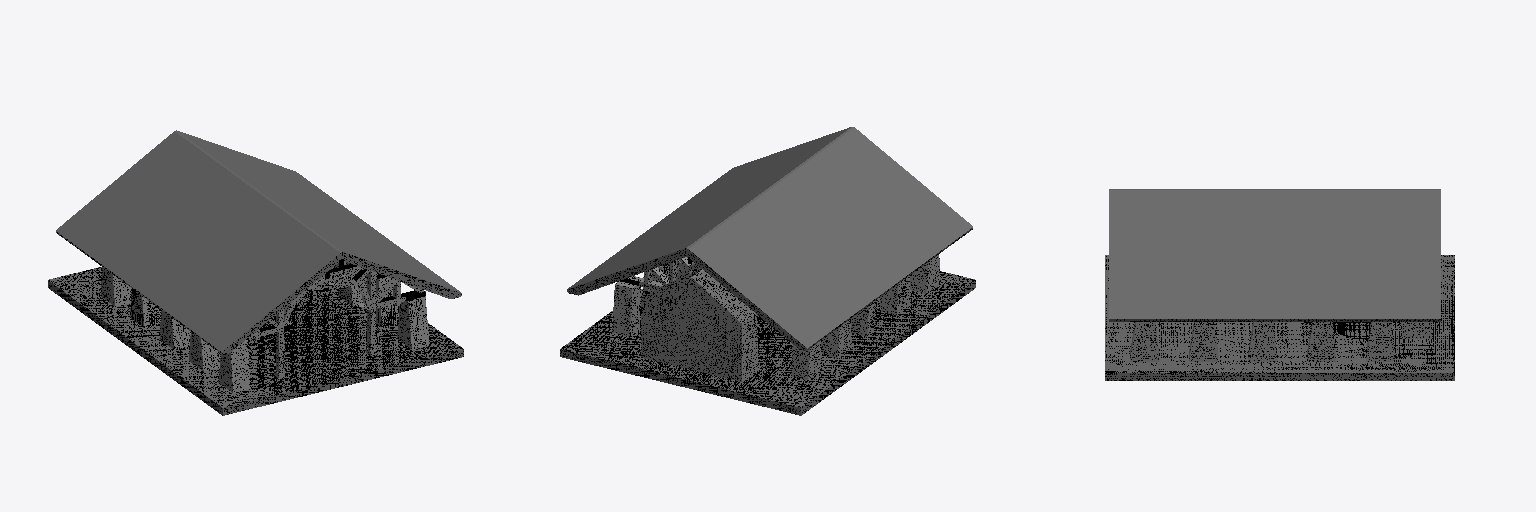
Rendered from Pavilion_4.obj.
3 renders of one model, left to right at view 1: azimuth 30°, elevation 25°; view 2: azimuth 150°, elevation 25°; view 3: azimuth 270°, elevation 25°, orthographic.
Parts seen in each view (by area): view 1: Mesh1 Group1 Model, Mesh2 Group1 Model; view 2: Mesh1 Group1 Model, Mesh2 Group1 Model; view 3: Mesh1 Group1 Model, Mesh2 Group1 Model.
Part boxes in pixels (bbox=[...]): Mesh1 Group1 Model: bbox=[56, 130, 461, 392]; Mesh2 Group1 Model: bbox=[48, 267, 463, 415]; Mesh1 Group1 Model: bbox=[567, 127, 972, 381]; Mesh2 Group1 Model: bbox=[560, 271, 975, 415]; Mesh1 Group1 Model: bbox=[1109, 189, 1440, 361]; Mesh2 Group1 Model: bbox=[1105, 255, 1454, 380].
Bounding box in the file's own units: 4.17 × 2.19 × 5.23.